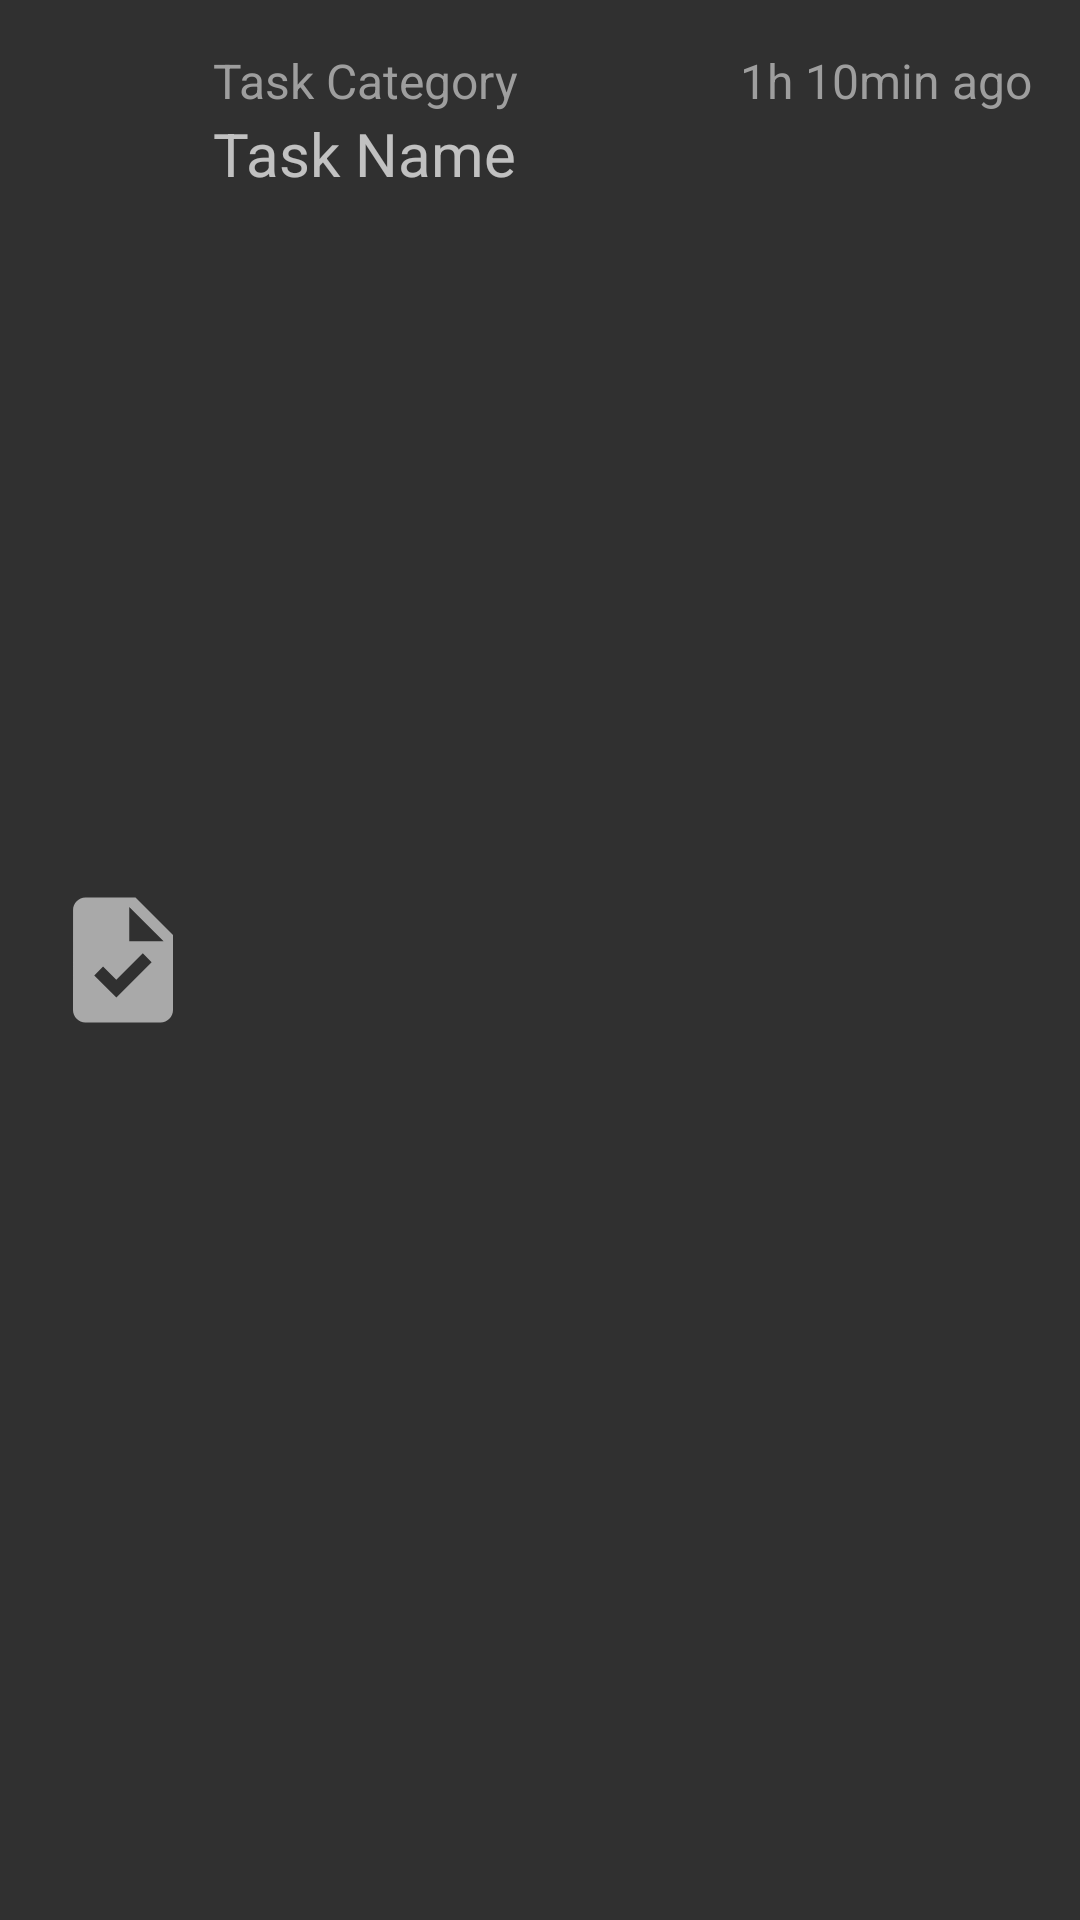

Named icons in this screenshot (1080px x 1920px) and their bounding boxes, (x1=x1, y1=y1, x2=x2, y2=y2):
Task: (x1=73, y1=897, x2=173, y2=1023)
